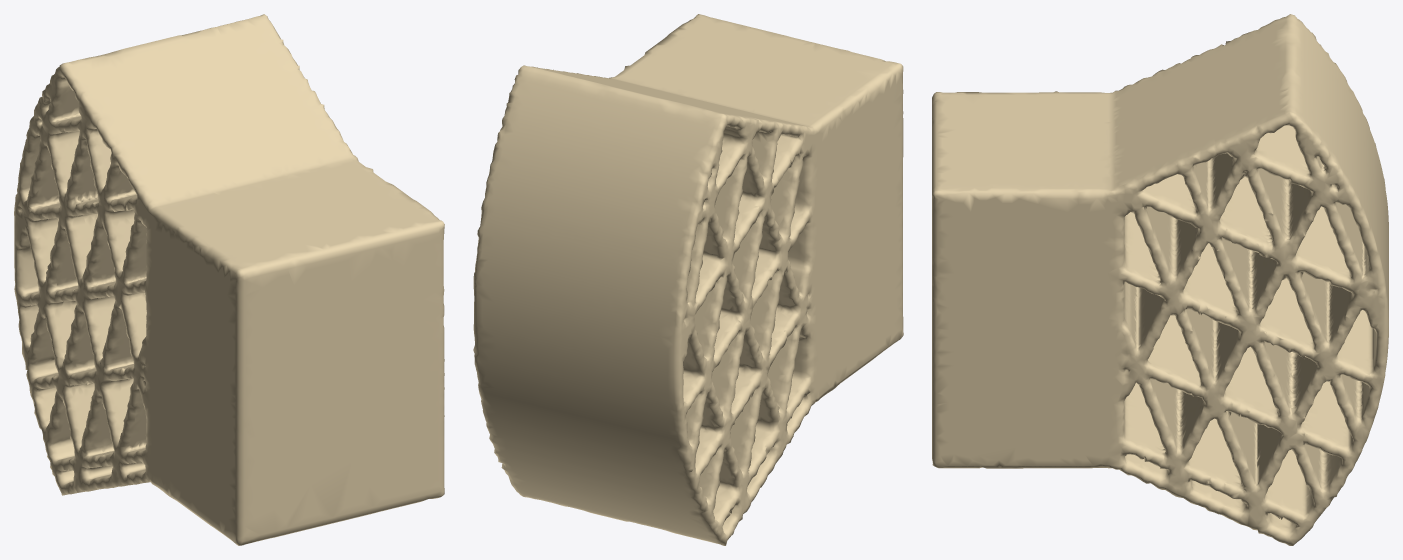
File: ollie-paw-shape-040.glb
3 views of the same model, side by side, from view 1: azimuth 30°, elevation 25°; view 2: azimuth 150°, elevation 25°; view 3: azimuth 270°, elevation 25° (orthographic).
Visible parts, largest first — view 1: world; view 2: world; view 3: world.
Part boxes in pixels (x1=…): world: x1=14, y1=14, x2=444, y2=545; world: x1=473, y1=14, x2=903, y2=545; world: x1=932, y1=14, x2=1388, y2=545.
Bounding box in the file's own units: 20 × 39.85 × 38.
